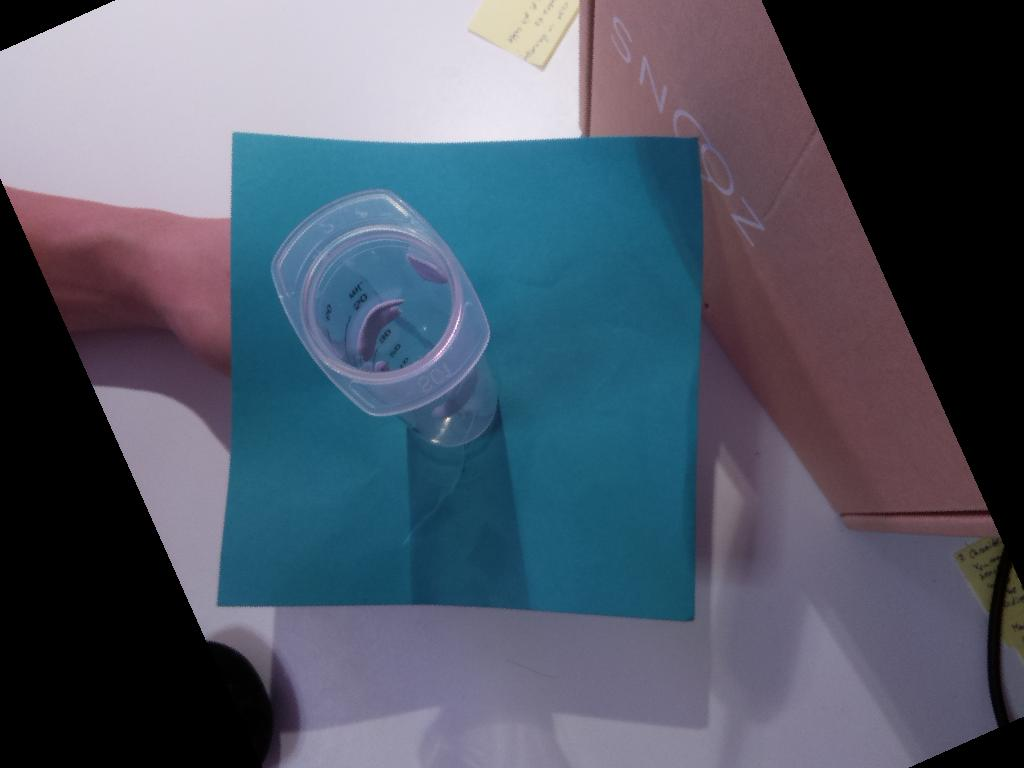dirty: (270, 188, 490, 418)
